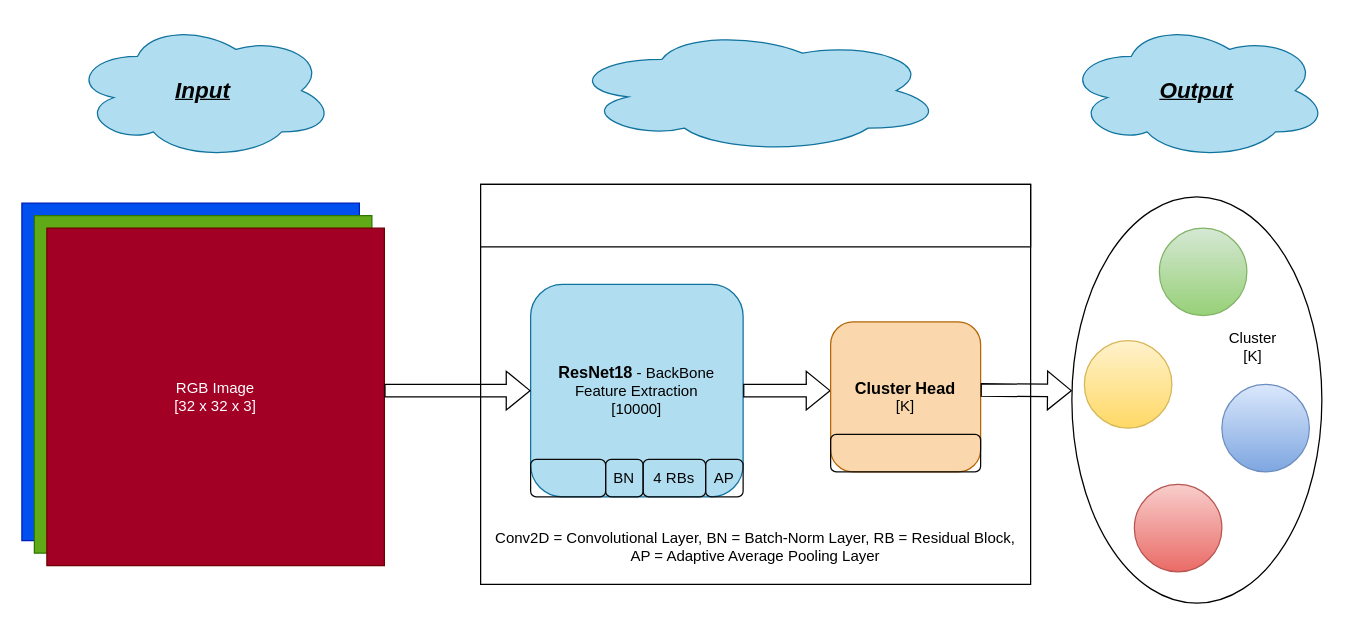
Some shapes in this 1350 by 625 pixel diagram are drawn without their labels. Each missing label, with the centre of its shape:
"Conv2D" goes at point (567, 477).
"Deep Learning Model" goes at point (755, 90).
"Dense Layer" goes at point (905, 452).
"SCAN - Clustering Model [K = Number of Clusters]" goes at point (755, 215).
